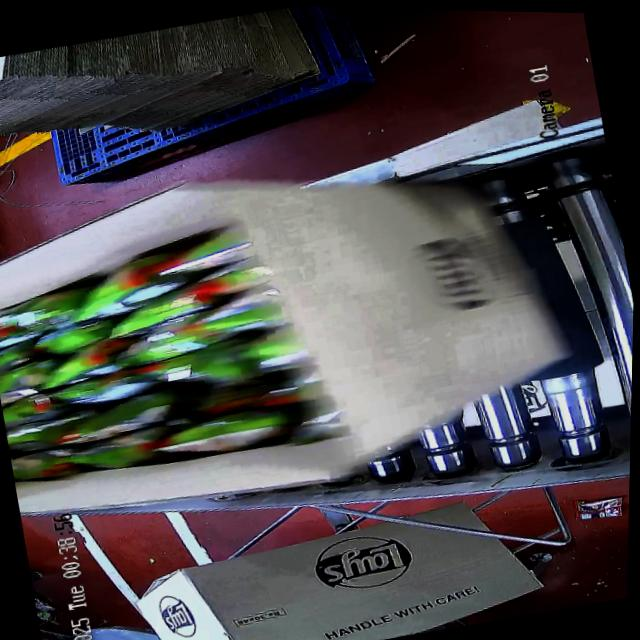YOGURT_HERB: (0, 225, 297, 489)
